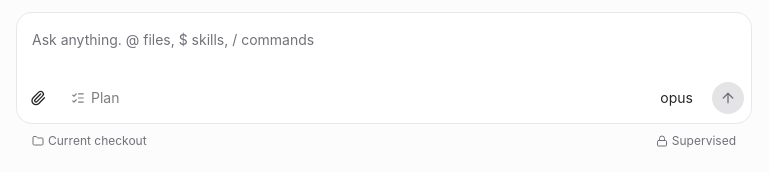
Test case: Composer › completes @ files and / commands
In the text box: [384, 44] box [16, 12, 752, 76], type "@ma"
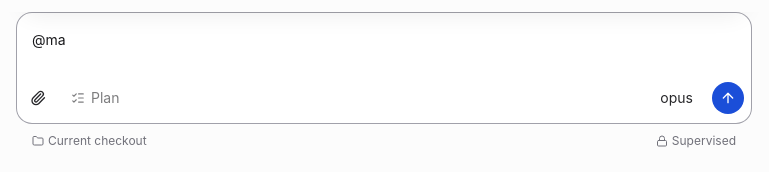
Press Tab
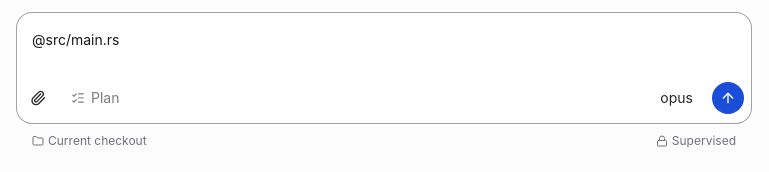
Expected: the text box holds "@src/main.rs "
Replace the text in the text box with "/re": [384, 44] box [16, 12, 752, 76]
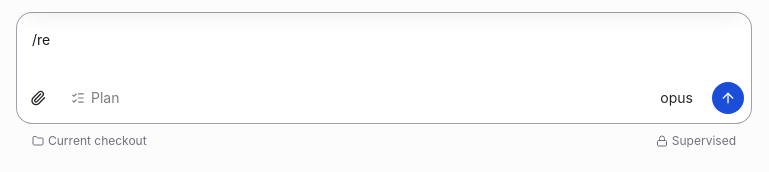
Press Enter
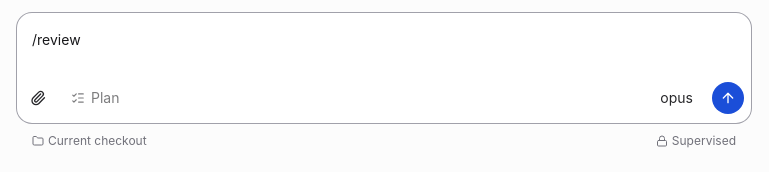
Expected: the text box holds "/review ", [16, 12, 752, 76]
